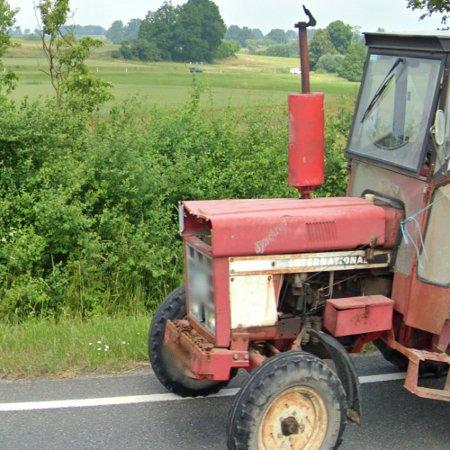tractors: (149, 33, 450, 450), (289, 11, 325, 197)
